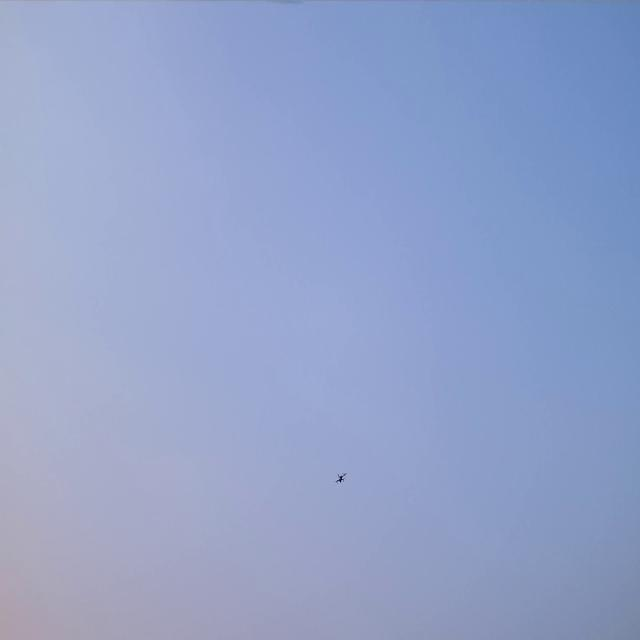UAV: (334, 468, 346, 488)
